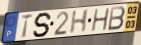2: (54, 11, 70, 37)
B: (107, 5, 127, 32)
H: (68, 9, 90, 36), (90, 7, 111, 33)
S: (32, 12, 53, 38)
T: (20, 13, 34, 39)
